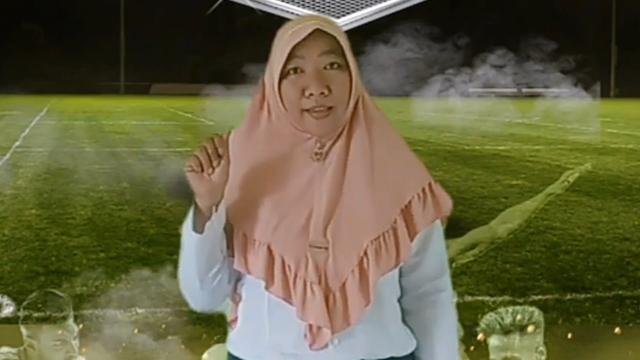A: (179, 130, 239, 208)
